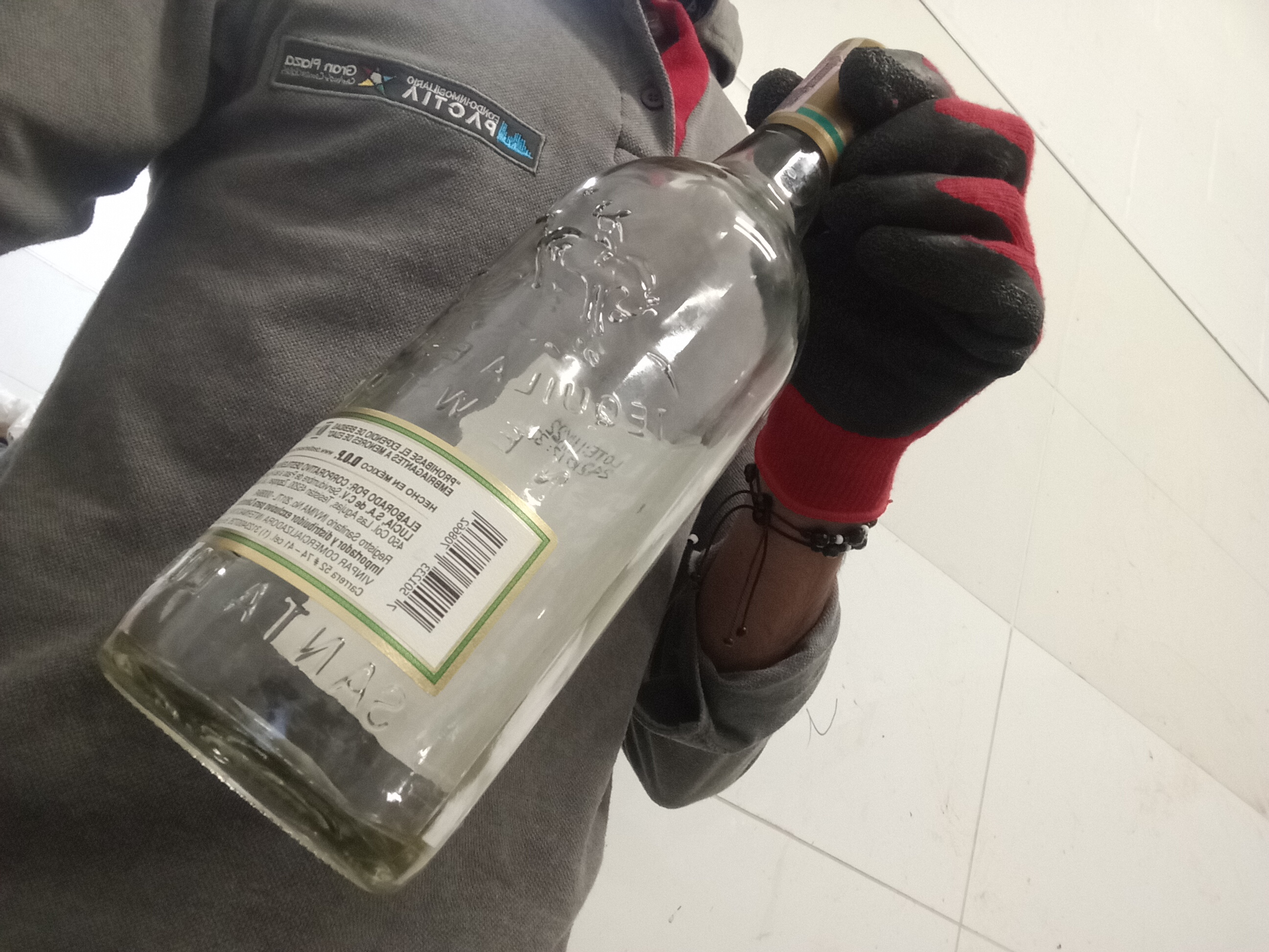Vidrio: (96, 35, 873, 900)
